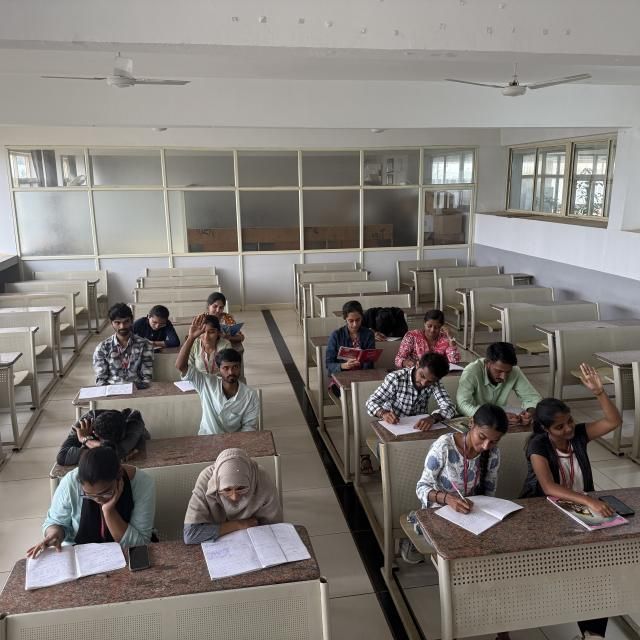Hand Rising: (528, 361, 620, 492), (175, 310, 258, 436)
Reading: (180, 446, 307, 569), (80, 299, 151, 395), (460, 342, 544, 421), (326, 300, 379, 370), (204, 293, 248, 342)
Sleeping: (57, 402, 152, 461), (363, 303, 410, 341)
Writing: (418, 408, 520, 530), (366, 353, 456, 437), (393, 308, 471, 371), (133, 301, 182, 350)
